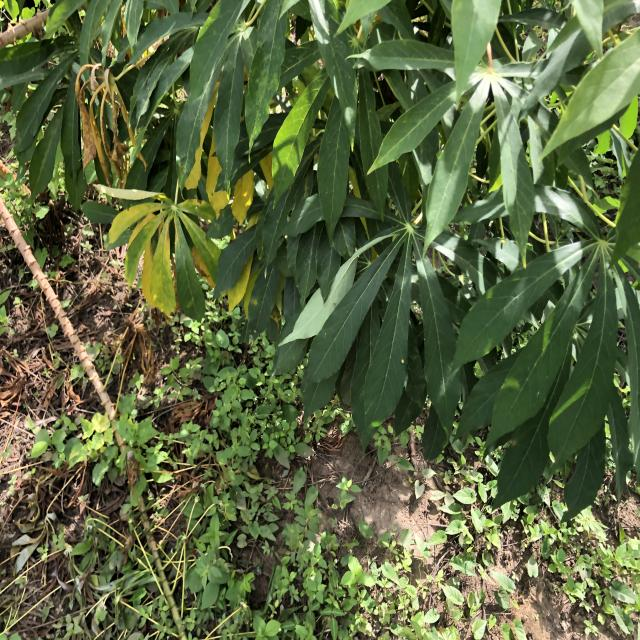Maleza: (0, 498, 633, 639), (41, 335, 269, 640)
Mosaico: (102, 176, 227, 327)
Mosca: (396, 353, 412, 375), (278, 231, 295, 243)
